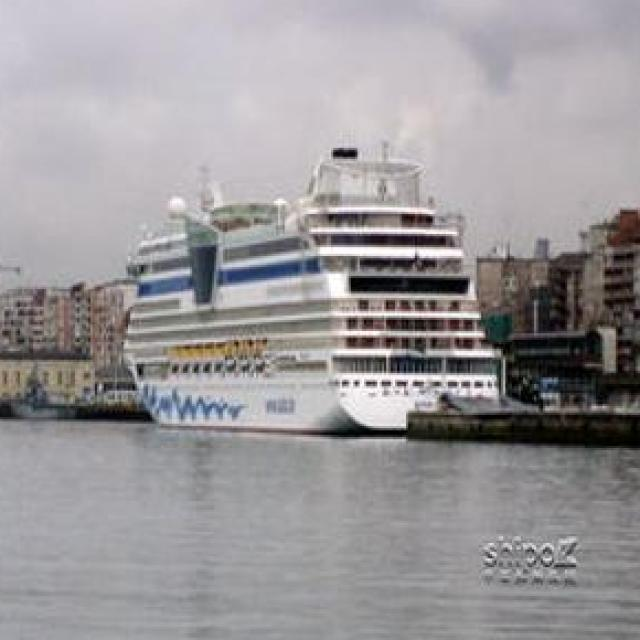passenger ship: (88, 141, 503, 460)
